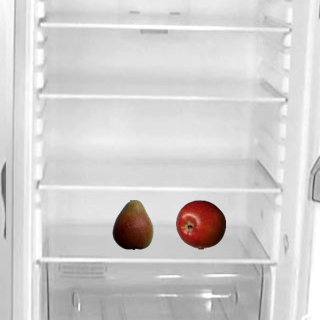Apple Braeburn: (175, 199, 225, 249)
Pear Forelle: (107, 199, 157, 249)
